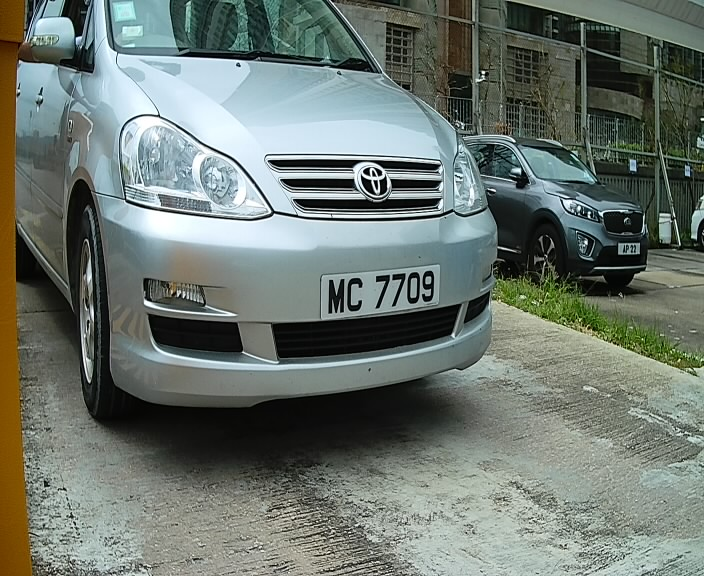License Plate: (312, 258, 450, 329)
